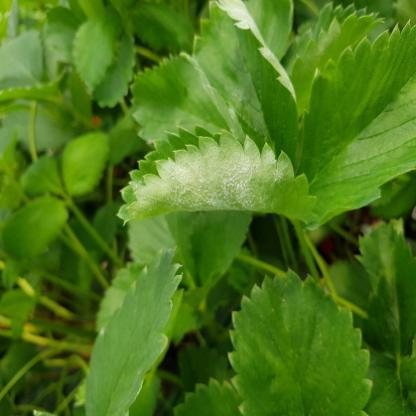Strawberry_Powdery_Mildew_Leaf: (115, 126, 322, 228), (191, 0, 299, 163)
